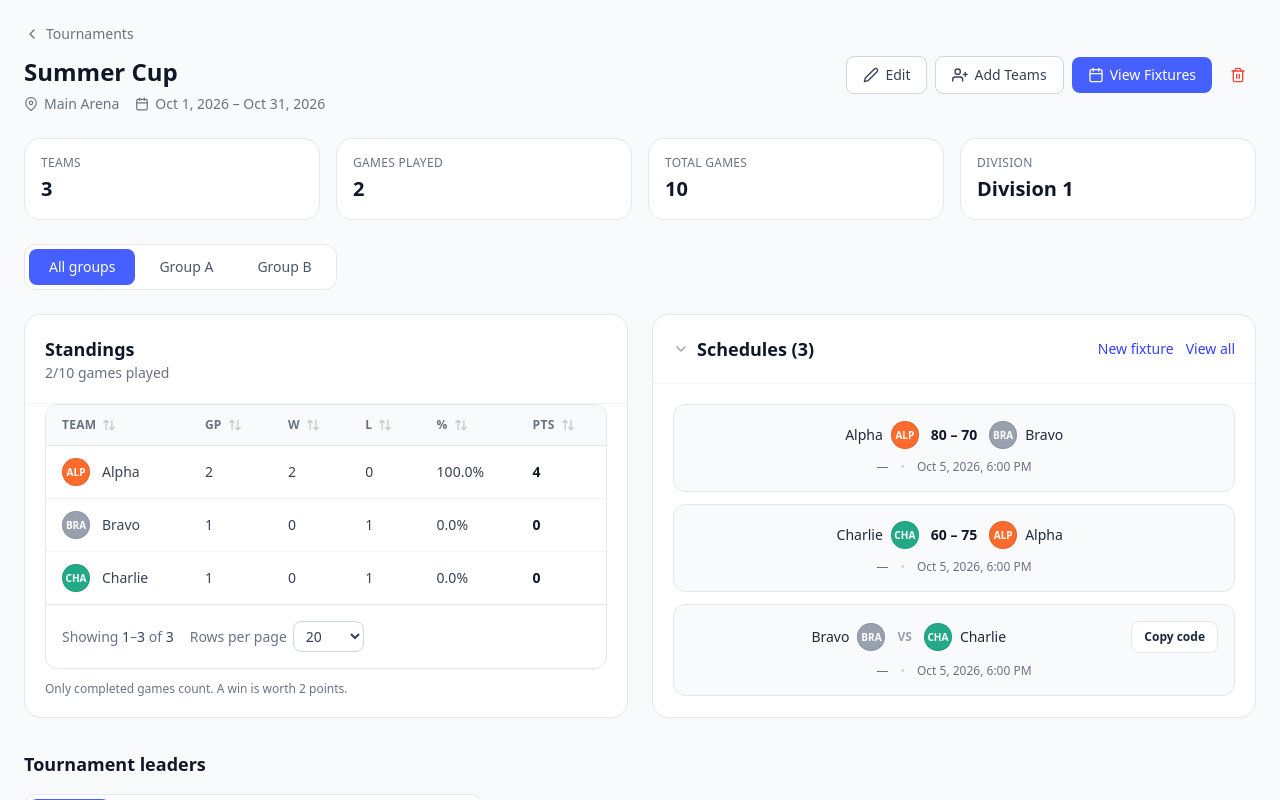
it: Tournament detail: header and quick stats › opens the edit form pre-filled with the saved tournament
This screenshot has width=1280, height=800.
Click the button "Edit" at (887, 75), box [846, 56, 928, 94]
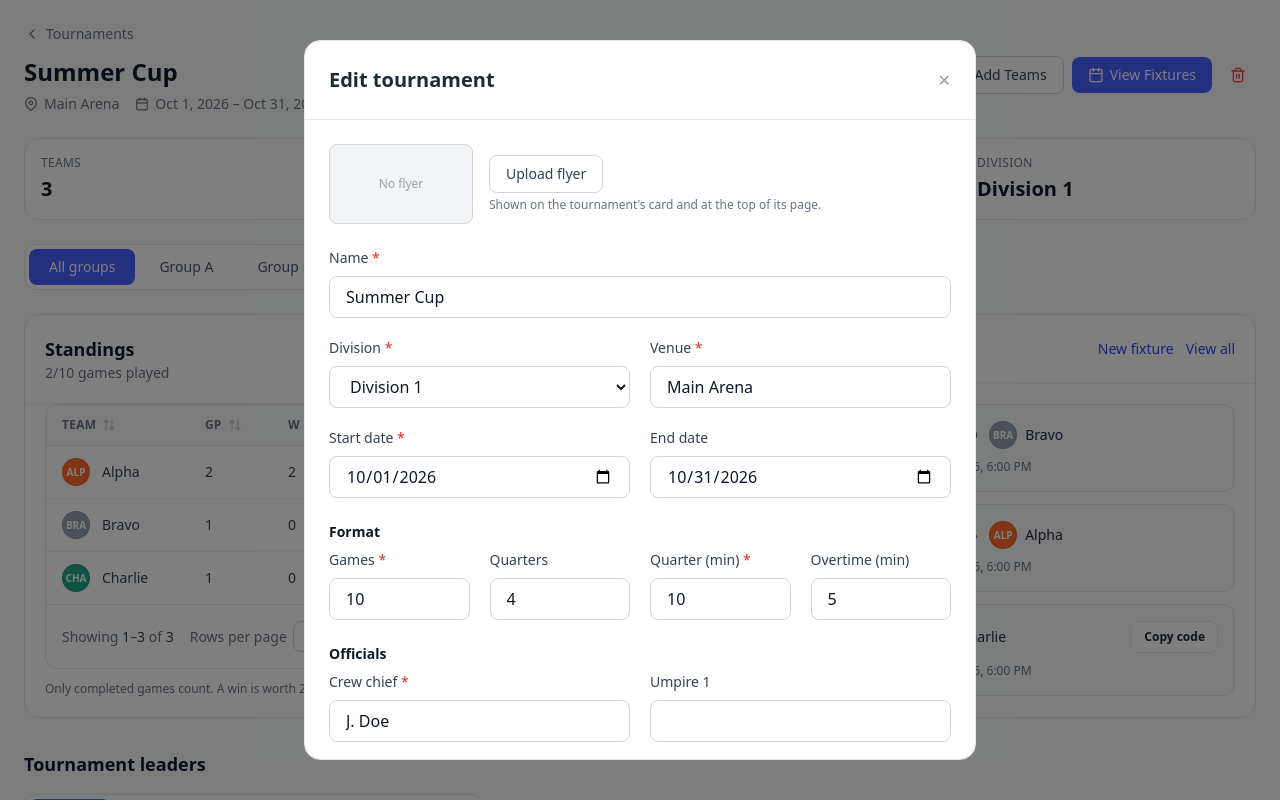
Now the field labelled "Name *" holds "Summer Cup", box [329, 276, 951, 318]
Now the date field labelled "Start date *" holds "2026-10-01", box [329, 456, 630, 498]
